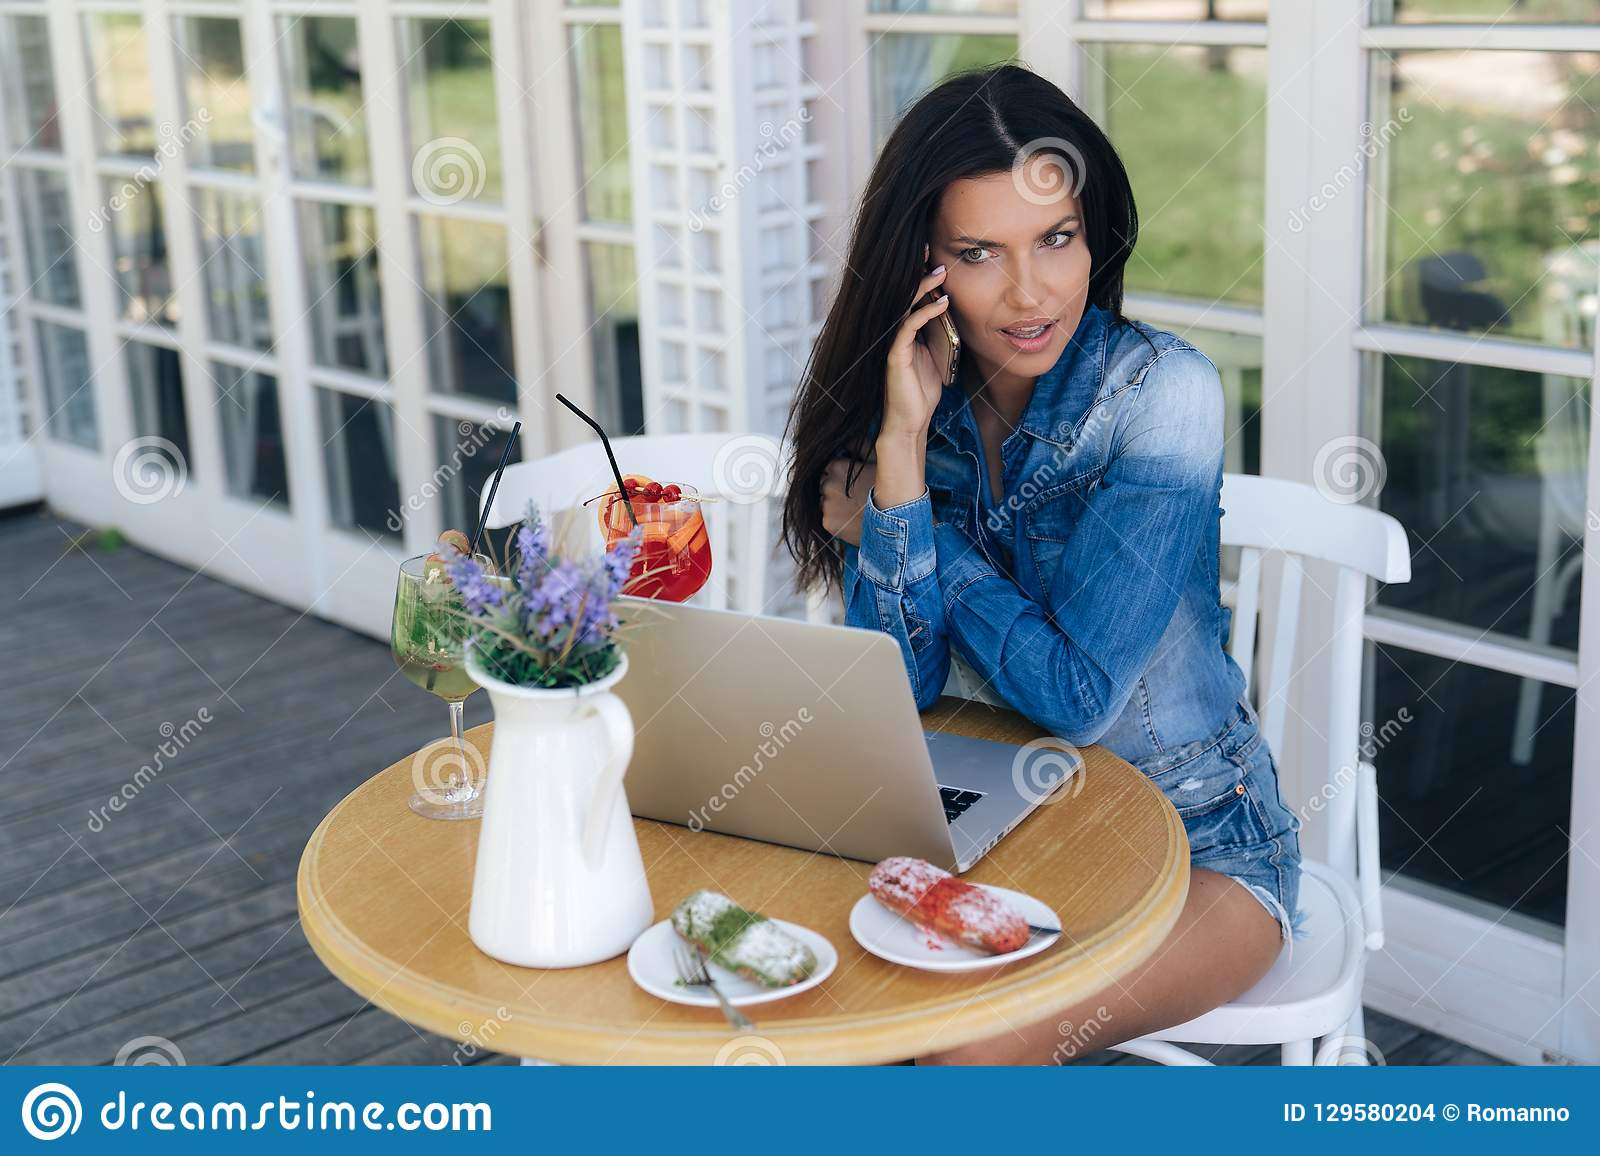phone: (909, 245, 968, 397)
talk: (878, 212, 1093, 445)
